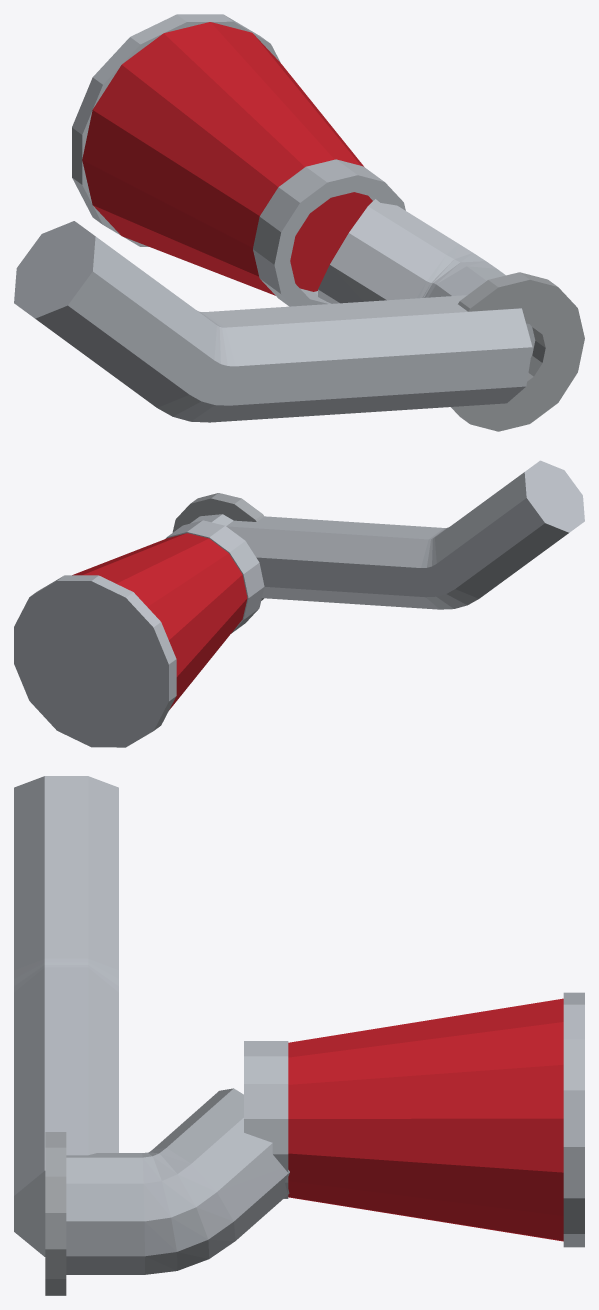
Rendered from vortex_r.glb.
3 renders of one model, top to bottom at view 1: azimuth 30°, elevation 25°; view 2: azimuth 150°, elevation 25°; view 3: azimuth 270°, elevation 25°, orthographic. The views are drawn at different scales.
Visible parts, largest first — view 1: model; view 2: model; view 3: model.
Part boxes in pixels (x1,y1,x2,y2): model: (14,14,584,431); model: (14,460,584,747); model: (14,776,584,1295).
Size of the model in its own units: 0.3674 by 0.1877 by 0.3216.
2 materials, 1 textured.
